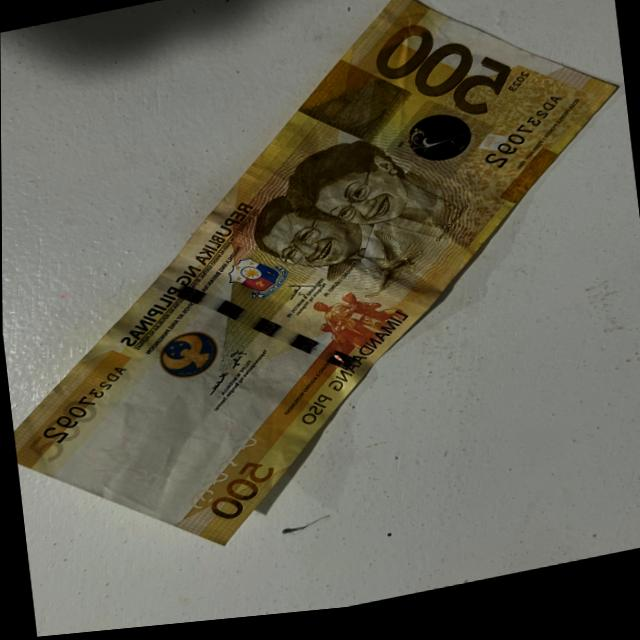concealed_value: (310, 67, 398, 149)
optically_variable_device: (402, 113, 481, 185)
security_thread: (160, 257, 357, 412)
see_through_mark: (176, 436, 269, 518)
serial_number: (473, 100, 575, 189), (31, 363, 131, 450)
value: (368, 21, 520, 141)
